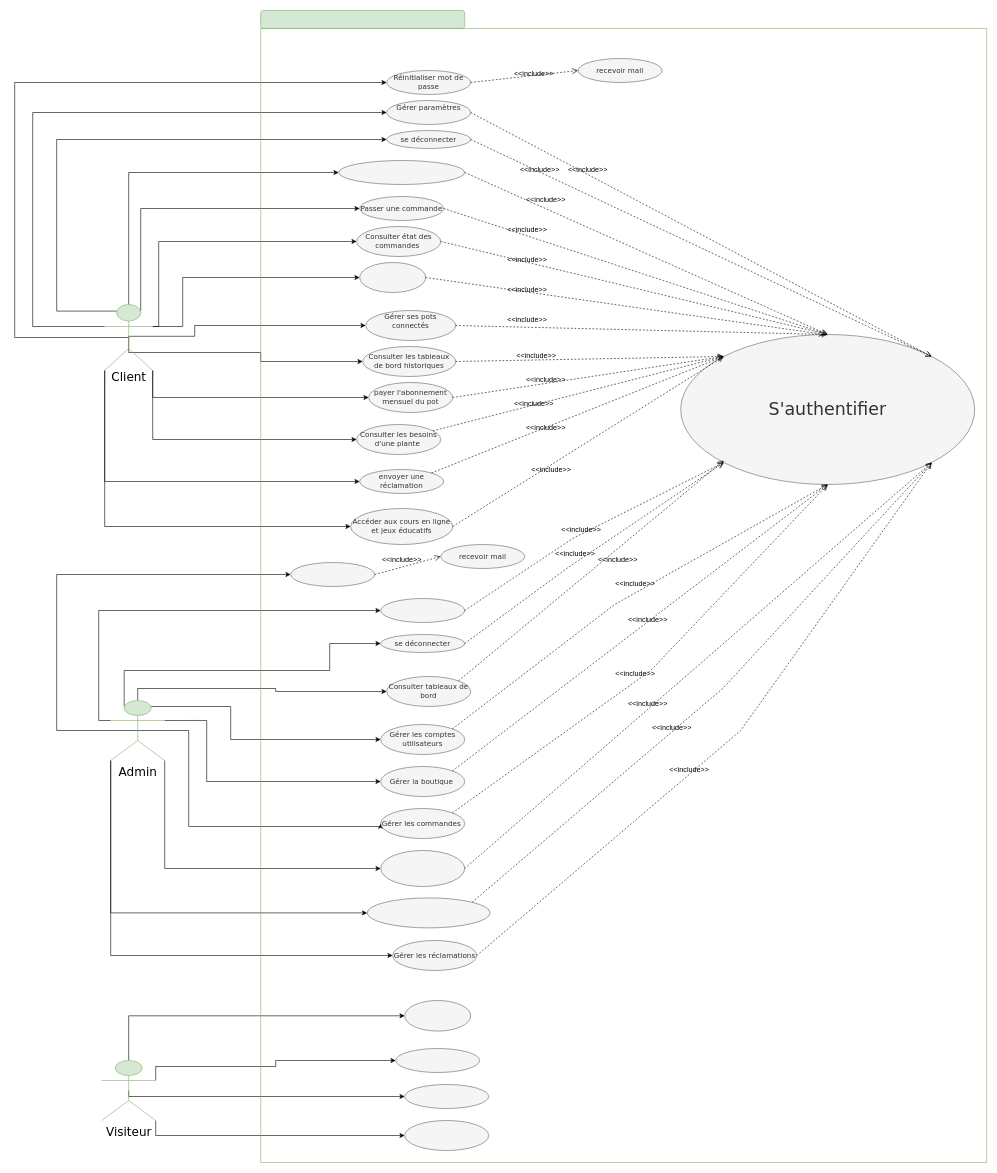
Some shapes in this 997 by 1173 pixel diagram are drawn without their labels. The shapes that lost their labels are listed below. From the top down, each one's centre as x and y in pixels, then its label:
At (x=362, y=19): "Plateforme de maintenance des plantes".
At (x=401, y=172): "Consulter les produits de la boutique".
At (x=392, y=277): "Configurer ses pots connectés".
At (x=332, y=574): "Réinitialiser mot de passe coté admin".
At (x=422, y=610): "Gérer paramètres coté admin".
At (x=422, y=868): "Gérer les pots connectées coté admin".
At (x=428, y=912): "Valider/refuser le paiement de l'abonnement du pot".
At (x=437, y=1015): "S'inscrire".
At (x=437, y=1060): "consulter la boutique".
At (x=446, y=1096): "Gérer panier".
At (x=446, y=1135): "Jouer des jeux éducatifs".
